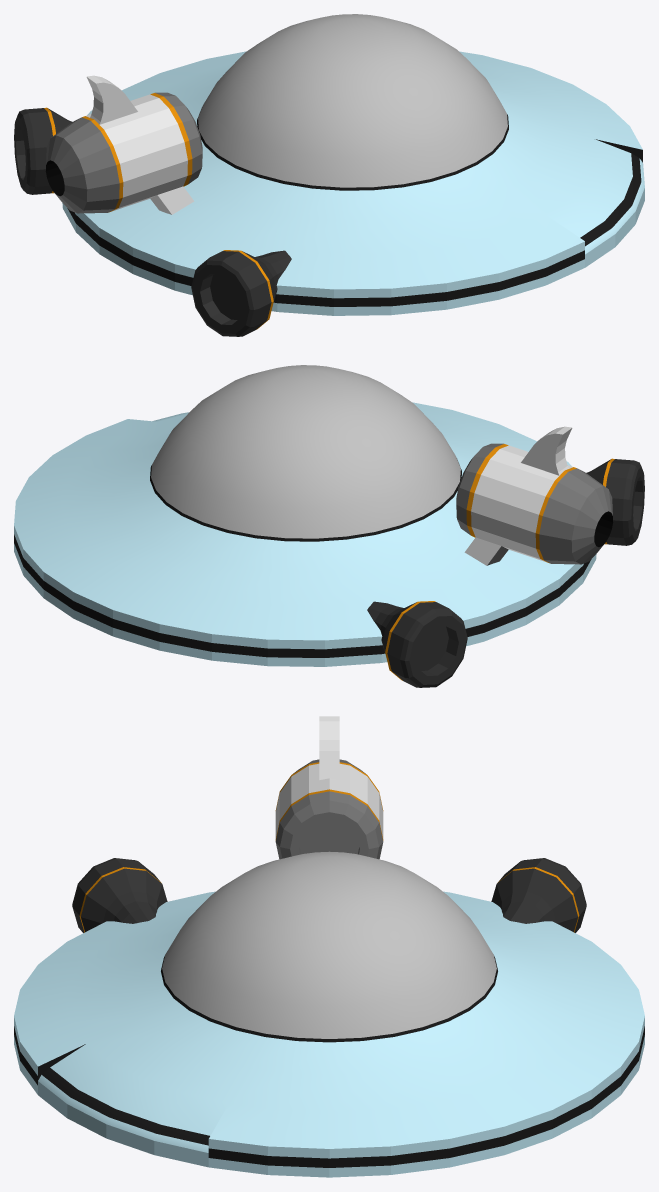
The model's file is UFO_new_5.fbx.
3 views of the same model, one above another, from view 1: azimuth 30°, elevation 25°; view 2: azimuth 150°, elevation 25°; view 3: azimuth 270°, elevation 25° (orthographic). The views are drawn at different scales.
Parts seen in each view (by area): view 1: UFO, Engine, Small Engine; view 2: UFO, Engine, Small Engine; view 3: UFO, Small Engine, Engine.
Part boxes in pixels (x1=…): UFO: x1=62, y1=14, x2=644, y2=315; Engine: x1=45, y1=75, x2=202, y2=214; Small Engine: x1=14, y1=107, x2=291, y2=336; UFO: x1=14, y1=365, x2=596, y2=666; Engine: x1=456, y1=426, x2=613, y2=565; Small Engine: x1=367, y1=458, x2=644, y2=687; UFO: x1=14, y1=851, x2=644, y2=1177; Small Engine: x1=72, y1=858, x2=586, y2=932; Engine: x1=275, y1=716, x2=383, y2=859.
Bounding box in the file's own units: 400 × 157 × 436.
